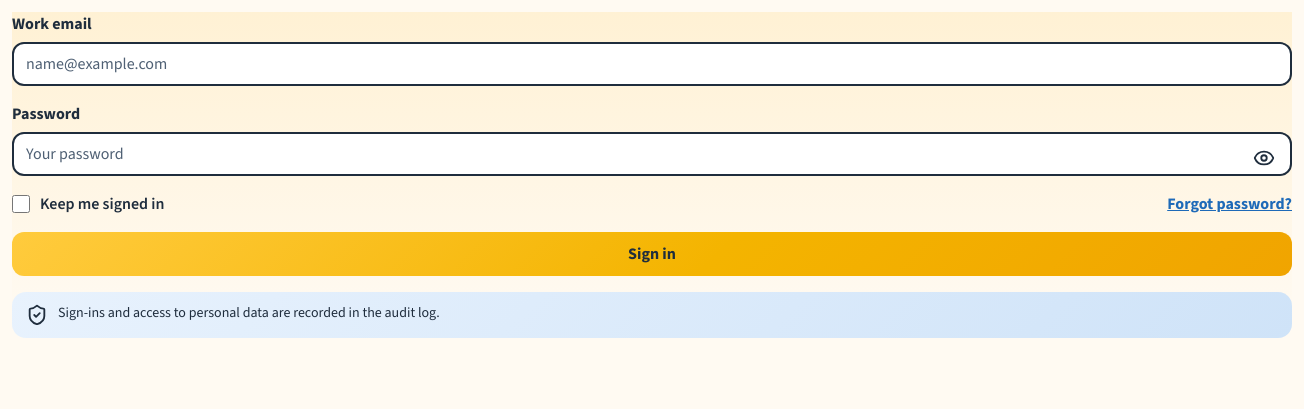
Scenario: LoginForm › shows generic invalid credentials message on 401
The width and height of the screenshot is (1304, 409).
Type "staff@focusuganda.org" into the field labelled "Work email" at (652, 64), box [12,42,1292,86]
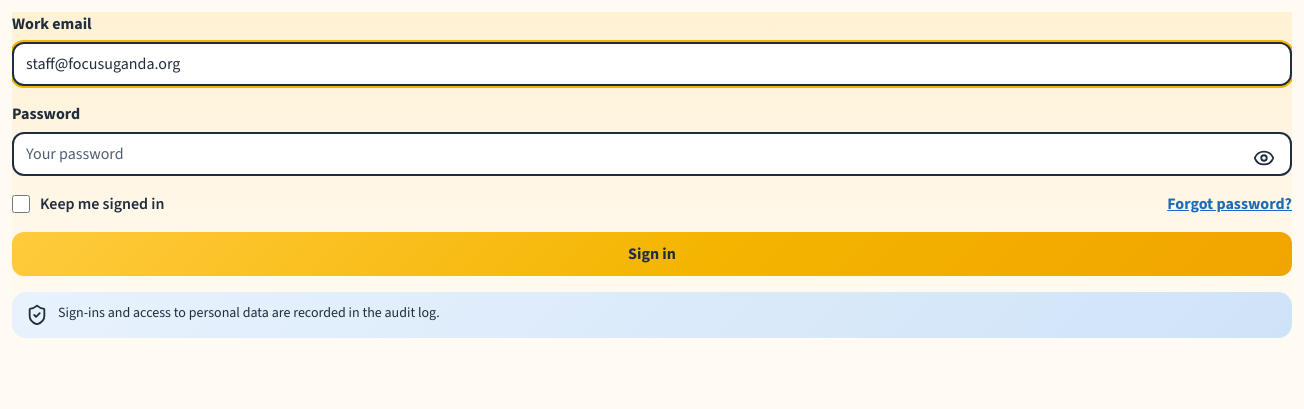
Type "WrongPass123" into the password field labelled "Password" at (652, 154), box [12,132,1292,176]
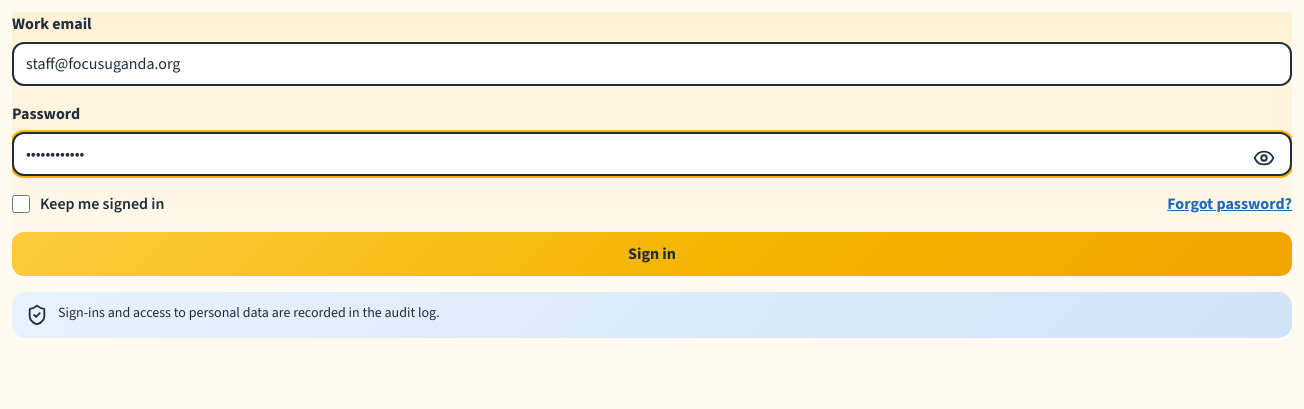
Click the button "Sign in" at (652, 254), box [12,232,1292,276]
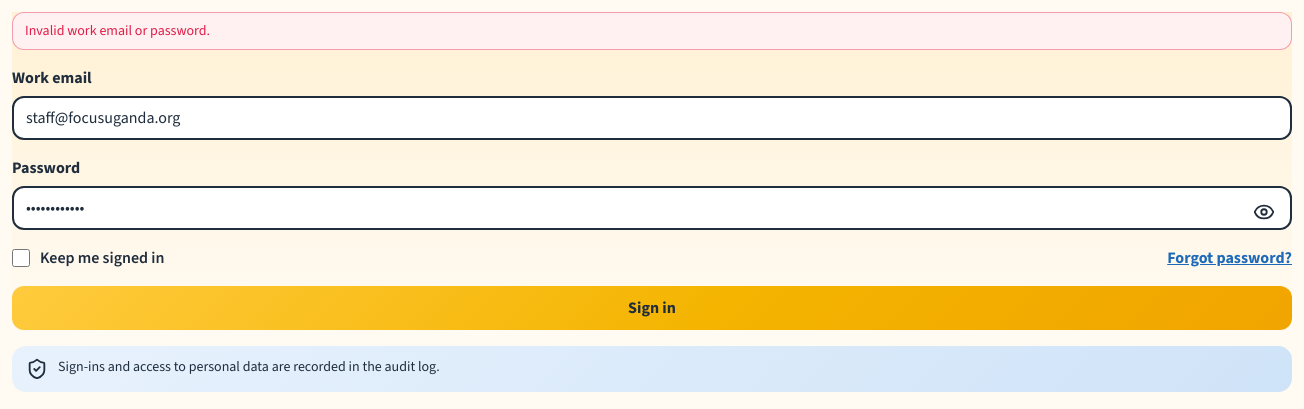
Now the text "Invalid work email or password." is shown, box [12,12,1292,50]
